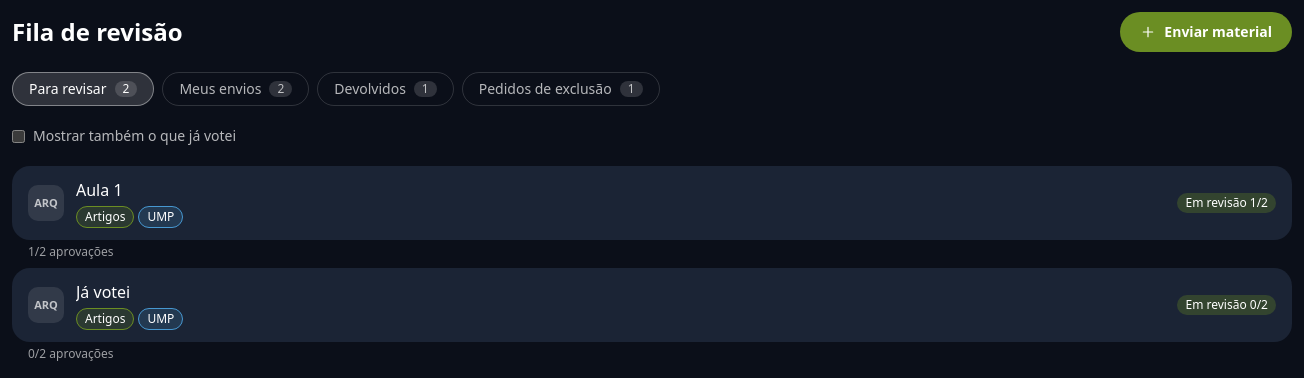
it: ReviewQueuePage — curador › abre em Para revisar (com o andamento) e as demais seções ficam em abas
Expected: the text "Aula 1" is shown, [76,179,122,201]
Expected: the text "1/2 aprovações" is shown, [28,243,114,260]
Click the tab "Meus envios 2". click: click(236, 89)
box: [162,72,309,106]
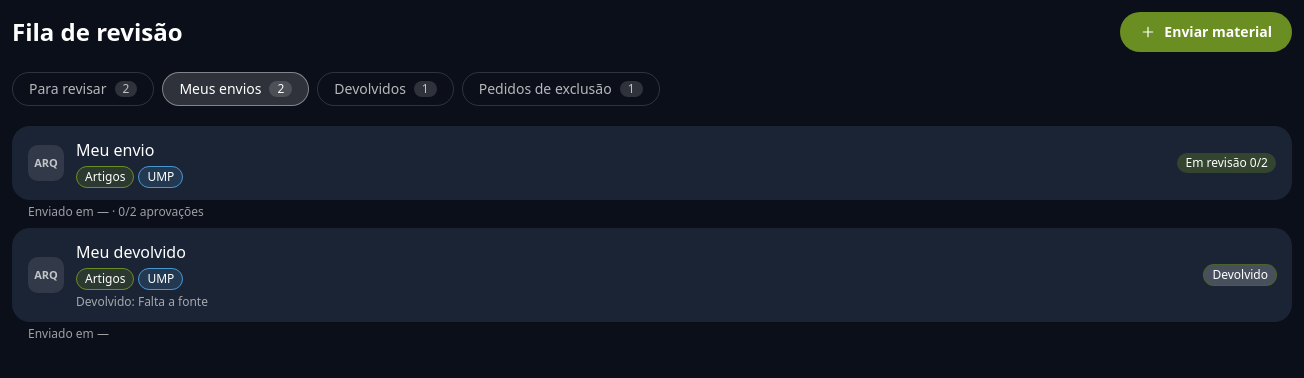
Now the text "Meu envio" is shown, box [76,139,154,161]
Click the tab "Pedidos de exclusão 1". click: click(561, 89)
box: [462,72,660,106]
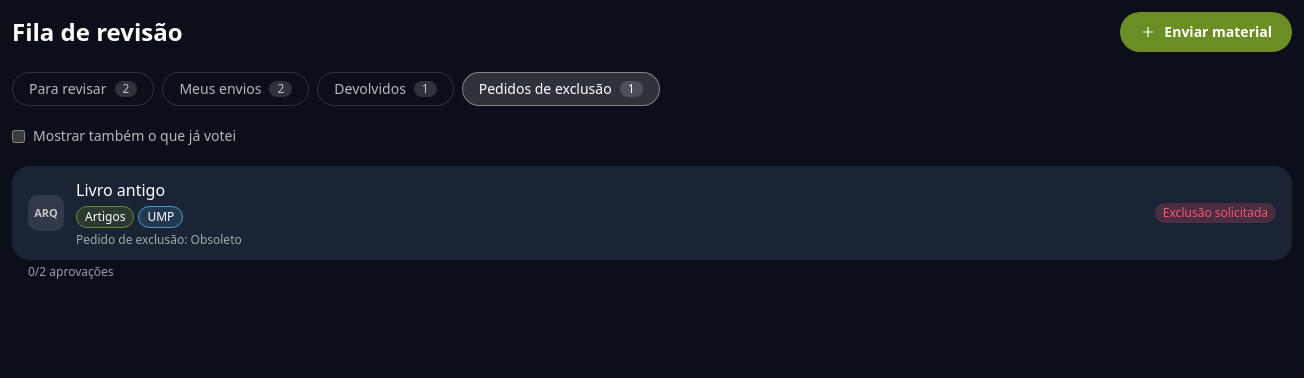
Now the text "Livro antigo" is shown, box [76,179,165,201]
Now the text "Pedido de exclusão: Obsoleto" is shown, box [76,231,242,248]
